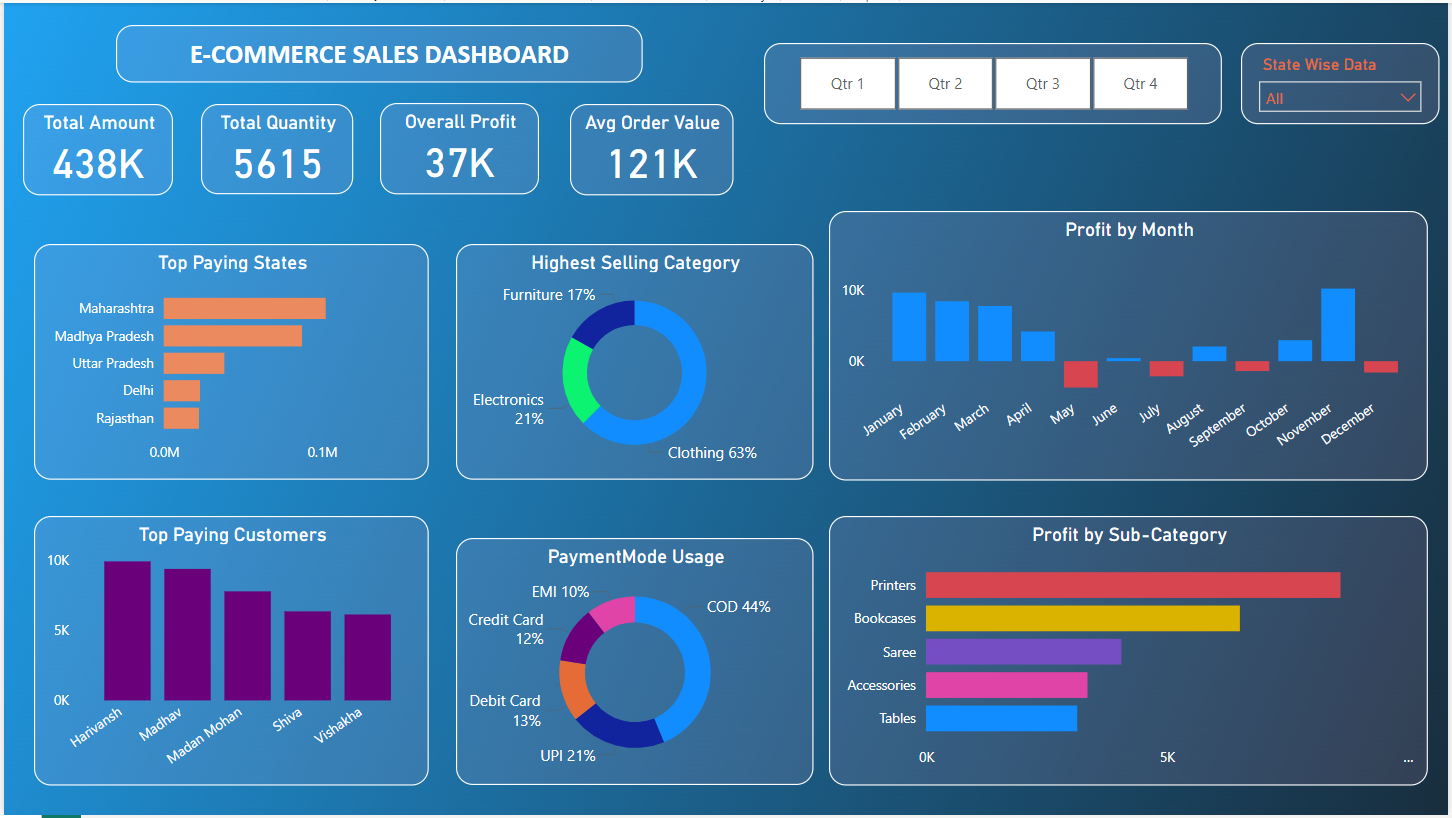

The dashboard page shown, as its layout file describes it:
{"tool":"powerbi","page":{"name":"Page 1","canvas":[1280,720],"ordinal":0},"visuals":[{"type":"textbox","box":[99.3,19.5,467.3,51.4],"z":0},{"type":"columnChart","title":"Profit by Month","fields":{"Y":["Sum(Details.Profit)"],"Category":["Orders.Order Date.Variation.Date Hierarchy.Month"]},"box":[731.5,184.4,531.1,238.5],"z":1000},{"type":"barChart","title":"Profit by Sub-Category","fields":{"Category":["Details.Sub-Category"],"Y":["Sum(Details.Profit)"]},"box":[731.5,454.9,531.1,238.5],"z":2000},{"type":"donutChart","title":"Highest Selling Category","fields":{"Category":["Details.Category"],"Y":["Sum(Details.Quantity)"]},"box":[400.8,213.7,316.6,209.3],"z":3000},{"type":"donutChart","title":"PaymentMode Usage","fields":{"Y":["Sum(Details.Quantity)"],"Category":["Details.PaymentMode"]},"box":[400.8,474.4,317.4,219],"z":4000},{"type":"card","title":"Total Amount","fields":{"Values":["Sum(Details.Amount)"]},"box":[16.8,89.6,133,80.7],"z":5000},{"type":"card","title":"Total Quantity","fields":{"Values":["Sum(Details.Quantity)"]},"box":[174.7,89.6,134.8,79.8],"z":6000},{"type":"card","title":"Overall Profit","fields":{"Values":["Sum(Details.Profit)"]},"box":[333.4,88.7,141,80.7],"z":7000},{"type":"card","title":"Avg Order Value","fields":{"Values":["Sum(Details.Avg order value)"]},"box":[501.9,89.6,144.5,80.7],"z":8000},{"type":"barChart","title":"Top Paying States","fields":{"Category":["Orders.State"],"Y":["Sum(Details.Amount)"]},"box":[26.6,213.7,350.2,209.3],"z":9000},{"type":"columnChart","title":"Top Paying Customers","fields":{"Y":["Sum(Details.Amount)"],"Category":["Orders.CustomerName"]},"box":[26.6,454.9,350.2,238.5],"z":10000},{"type":"slicer","fields":{"Values":["Orders.Order Date.Variation.Date Hierarchy.Quarter"]},"box":[673.9,35.5,406.1,71.8],"z":11000},{"type":"slicer","fields":{"Values":["Orders.State"]},"box":[1096.8,35.5,176.5,71.8],"z":12000}]}

Visuals, with their boxes in screenshot pixels (x1, y1, x2, y2), scaled from the page's 1280x720 canvas onto the 1452x818 screenshot:
textbox: BBox(113, 22, 643, 81)
"Profit by Month" columnChart: BBox(830, 209, 1432, 480)
"Profit by Sub-Category" barChart: BBox(830, 517, 1432, 788)
"Highest Selling Category" donutChart: BBox(455, 243, 814, 481)
"PaymentMode Usage" donutChart: BBox(455, 539, 815, 788)
"Total Amount" card: BBox(19, 102, 170, 193)
"Total Quantity" card: BBox(198, 102, 351, 192)
"Overall Profit" card: BBox(378, 101, 538, 192)
"Avg Order Value" card: BBox(569, 102, 733, 193)
"Top Paying States" barChart: BBox(30, 243, 427, 481)
"Top Paying Customers" columnChart: BBox(30, 517, 427, 788)
slicer - Orders.Order Date.Variation.Date Hierarchy.Quarter: BBox(764, 40, 1225, 122)
slicer - Orders.State: BBox(1244, 40, 1444, 122)
